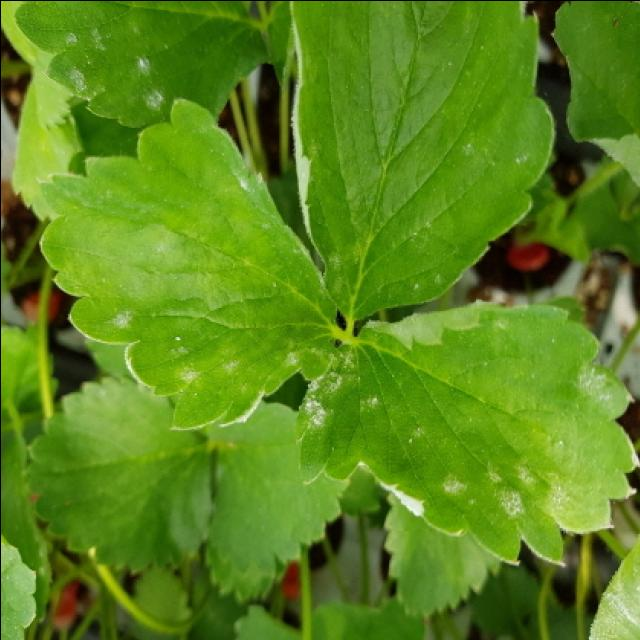Powdery Mildew Leaf: (36, 94, 339, 431), (290, 301, 638, 565), (287, 2, 555, 323), (10, 2, 269, 129), (585, 539, 638, 640)
